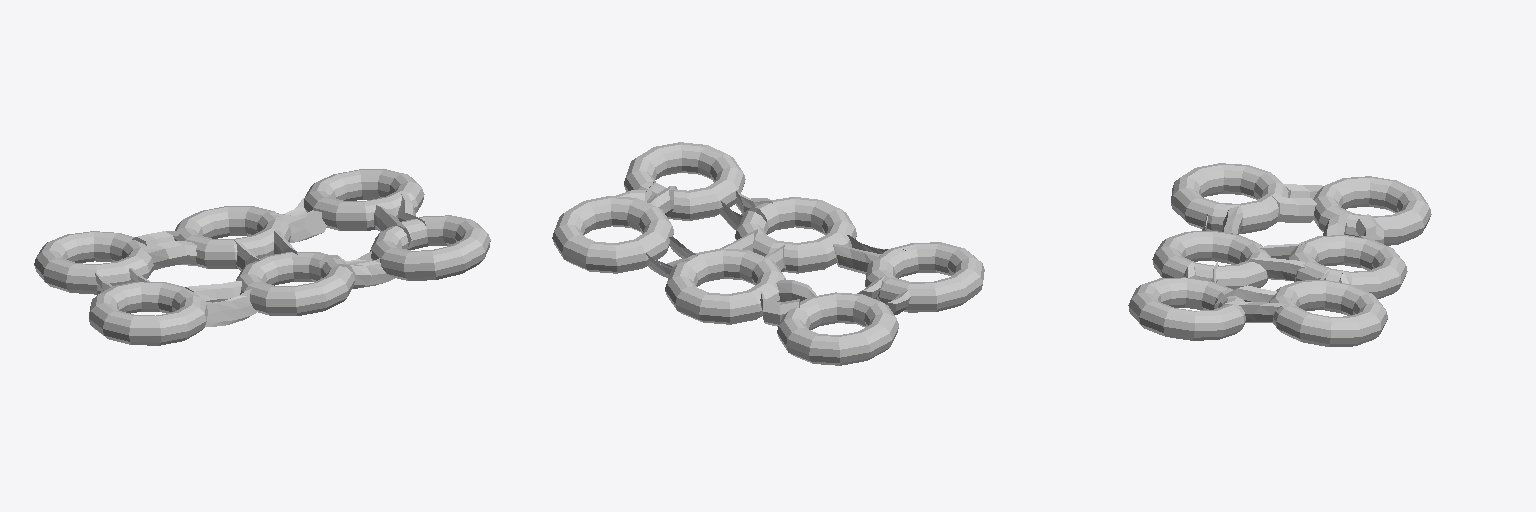
The model's file is sodarings.obj.
3 views of the same model, side by side, from view 1: azimuth 30°, elevation 25°; view 2: azimuth 150°, elevation 25°; view 3: azimuth 270°, elevation 25° (orthographic).
Parts seen in each view (by area): view 1: group[number redacted], group[number redacted], group[number redacted], group[number redacted], group[number redacted], group[number redacted], group[number redacted], group[number redacted], group[number redacted], group[number redacted], group[number redacted], group[number redacted]; view 2: group[number redacted], group[number redacted], group[number redacted], group[number redacted], group[number redacted], group[number redacted], group[number redacted], group[number redacted], group[number redacted]; view 3: group[number redacted], group[number redacted], group[number redacted], group[number redacted], group[number redacted], group[number redacted], group[number redacted], group[number redacted], group[number redacted], group[number redacted], group[number redacted].
Boxes of the visible parts, box(x1,y1,x2,y2) form: group[number redacted]: box(89, 281, 207, 345); group[number redacted]: box(370, 215, 490, 280); group[number redacted]: box(236, 252, 354, 315); group[number redacted]: box(34, 231, 153, 294); group[number redacted]: box(304, 169, 424, 230); group[number redacted]: box(175, 206, 291, 268); group[number redacted]: box(188, 289, 257, 326); group[number redacted]: box(142, 241, 197, 270); group[number redacted]: box(276, 210, 326, 242); group[number redacted]: box(336, 258, 394, 288); group[number redacted]: box(185, 281, 241, 302); group[number redacted]: box(374, 205, 411, 248); group[number redacted]: box(552, 196, 673, 273); group[number redacted]: box(777, 292, 898, 365); group[number redacted]: box(665, 248, 785, 324); group[number redacted]: box(865, 242, 984, 312); group[number redacted]: box(624, 142, 745, 220); group[number redacted]: box(735, 197, 856, 273); group[number redacted]: box(833, 244, 880, 274); group[number redacted]: box(760, 291, 799, 326); group[number redacted]: box(776, 280, 816, 301); group[number redacted]: box(1269, 280, 1387, 346); group[number redacted]: box(1128, 277, 1246, 340); group[number redacted]: box(1171, 163, 1288, 233); group[number redacted]: box(1313, 176, 1431, 245); group[number redacted]: box(1152, 231, 1270, 289); group[number redacted]: box(1288, 235, 1407, 298); group[number redacted]: box(1272, 196, 1316, 222); group[number redacted]: box(1248, 257, 1305, 281); group[number redacted]: box(1222, 301, 1286, 322); group[number redacted]: box(1215, 285, 1276, 308); group[number redacted]: box(1356, 214, 1383, 243).
Size of the model in its own units: 0.659 by 0.0973 by 0.47.